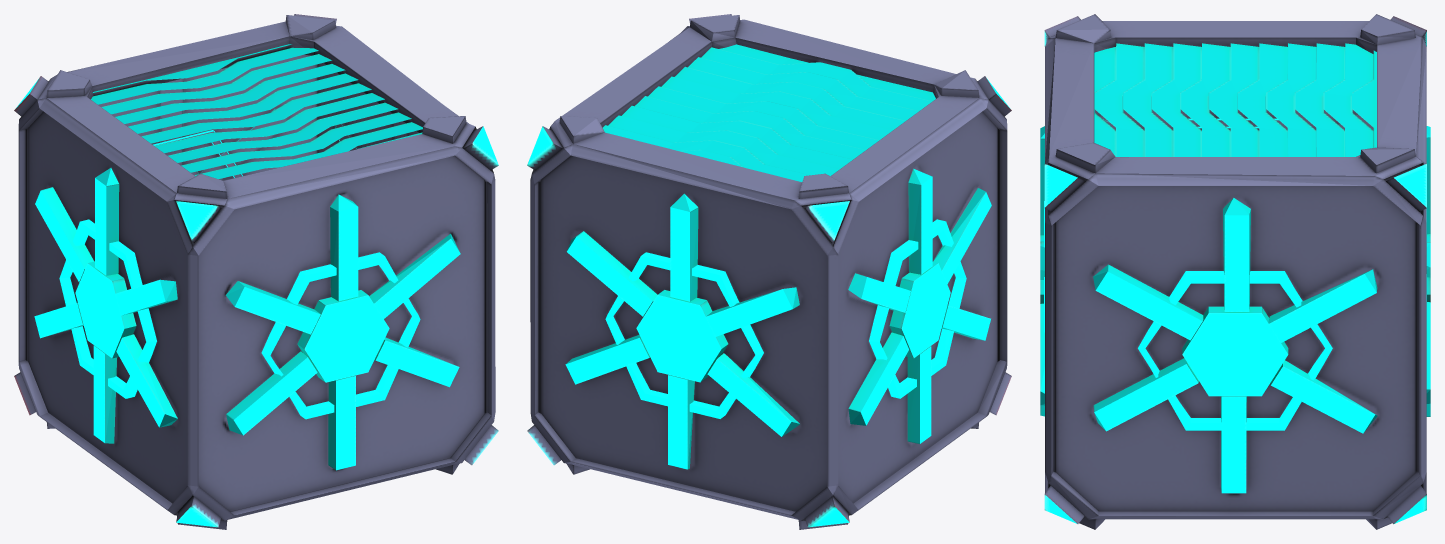
The model's file is FUT0110008.fbx.
3 renders of one model, left to right at view 1: azimuth 30°, elevation 25°; view 2: azimuth 150°, elevation 25°; view 3: azimuth 270°, elevation 25°, orthographic. The views are drawn at different scales.
Parts seen in each view (by area): view 1: smFUT0110008; view 2: smFUT0110008; view 3: smFUT0110008.
Boxes of the visible parts, x1=… form: smFUT0110008: x1=14, y1=14, x2=498, y2=529; smFUT0110008: x1=527, y1=14, x2=1011, y2=529; smFUT0110008: x1=1040, y1=14, x2=1430, y2=529.
Size of the model in its own units: 80.82 by 83.38 by 80.82.
Materials: 1 (1 with a texture image).
